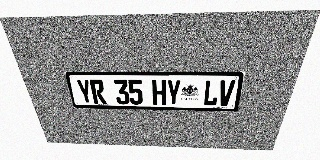3: (113, 79, 130, 104)
5: (128, 80, 143, 105)
H: (152, 80, 166, 105)
L: (203, 80, 220, 106)
R: (89, 79, 107, 104)
V: (217, 80, 236, 106)
Y: (75, 79, 94, 104), (167, 80, 181, 105)
